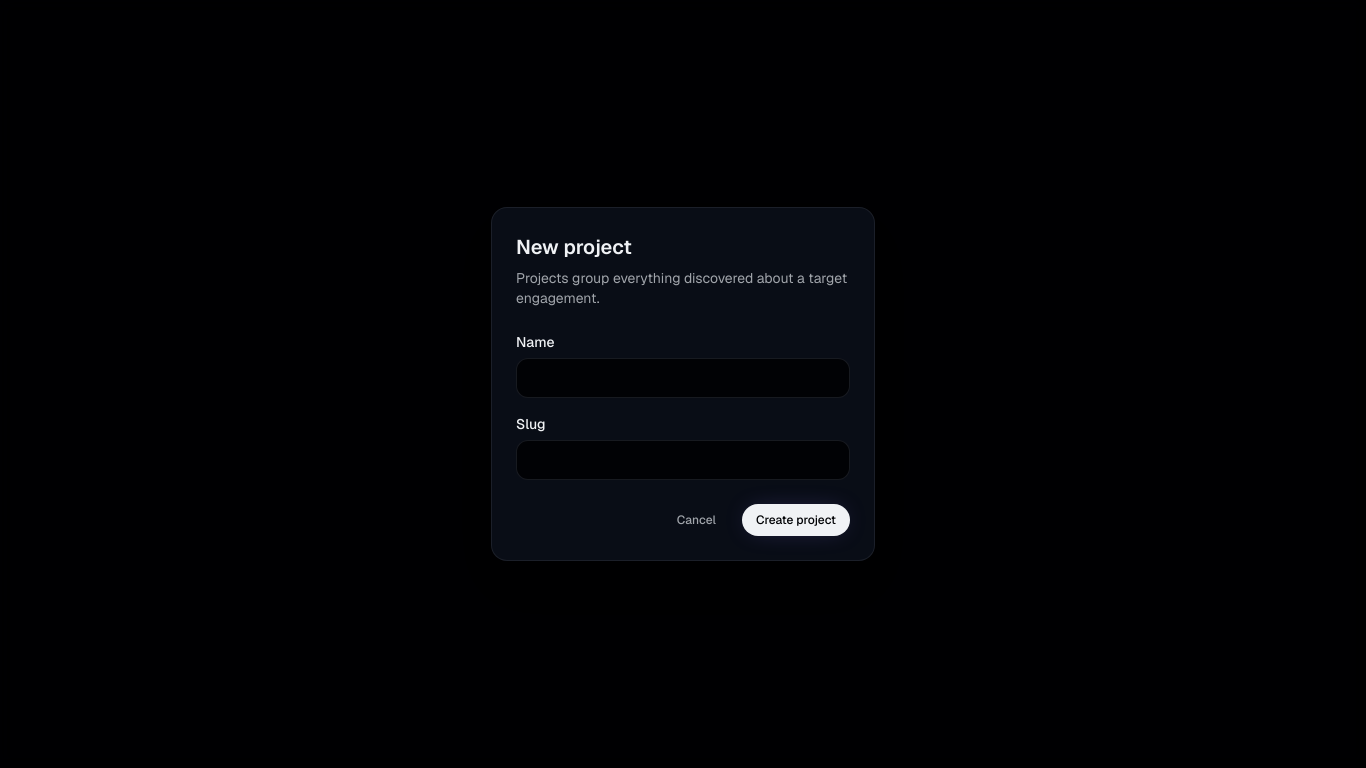
CreateProjectDialog › auto-derives the slug from the name until the slug is edited directly
The width and height of the screenshot is (1366, 768).
Type "My Project" into the field labelled "Name" at coordinates (683, 378), box x1=516 y1=358 x2=850 y2=398
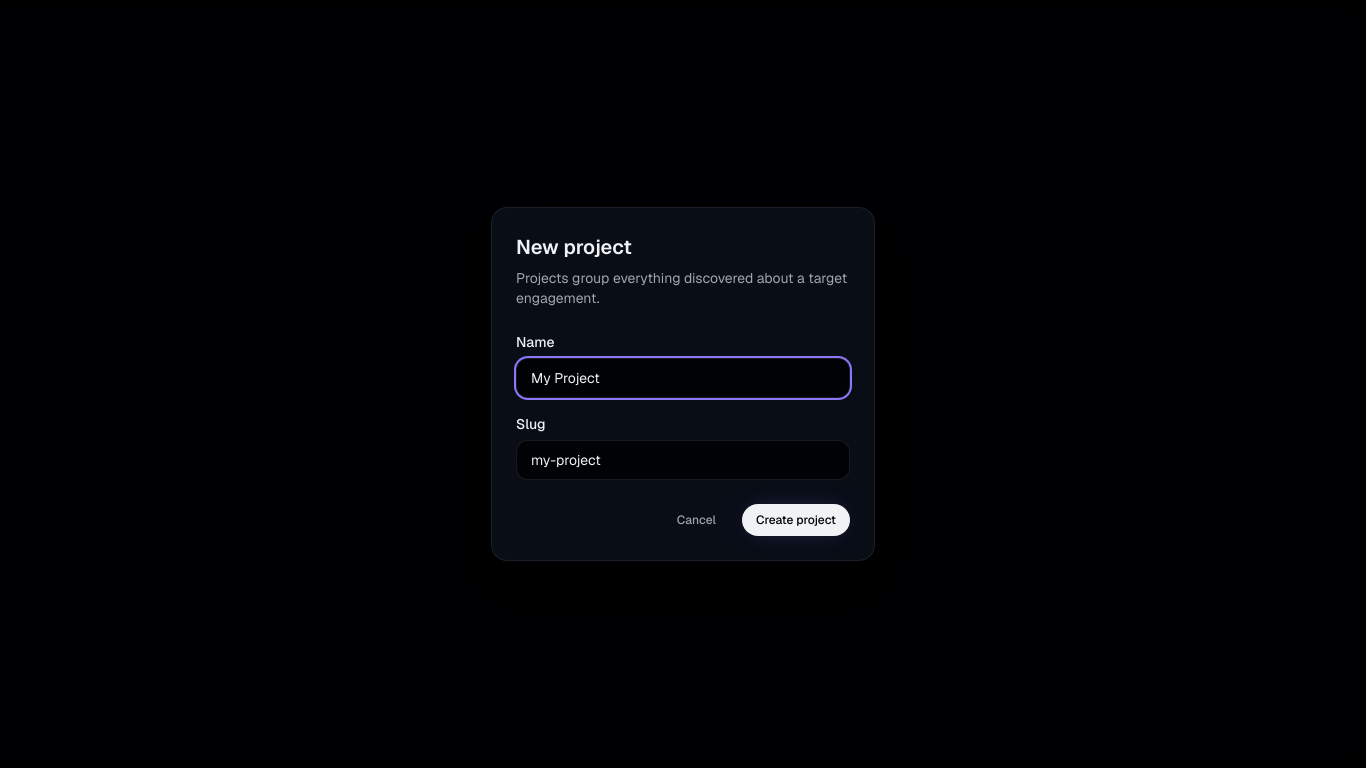
Result: the field labelled "Slug" holds "my-project" at x1=516 y1=440 x2=850 y2=480
